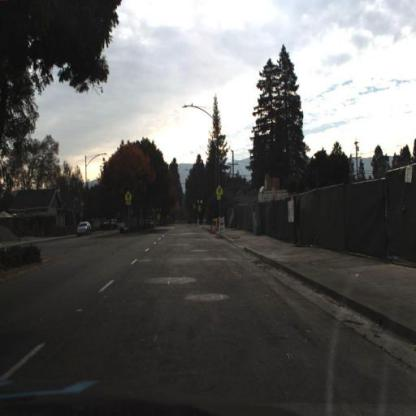car: (75, 221, 94, 239), (77, 222, 92, 236)
